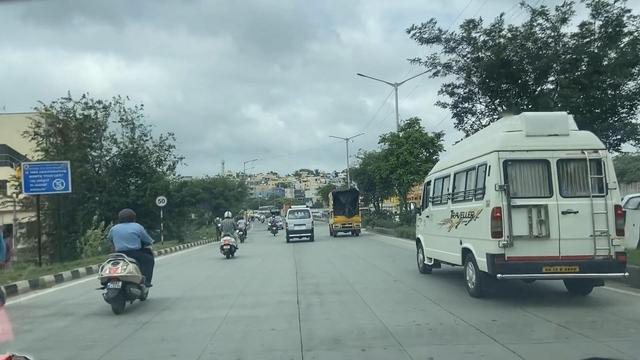HMV: (435, 151, 614, 317), (324, 183, 368, 239)
LMV: (92, 214, 158, 317), (279, 208, 318, 244), (216, 205, 238, 259)
